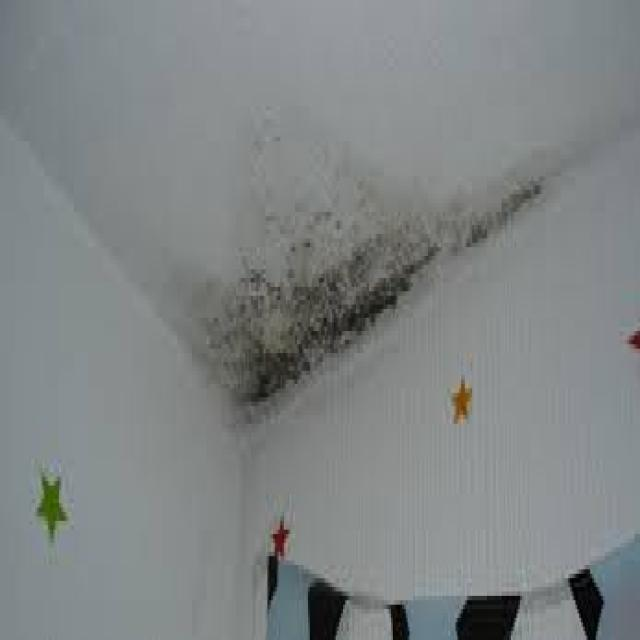stain_mould: (188, 156, 561, 418)
